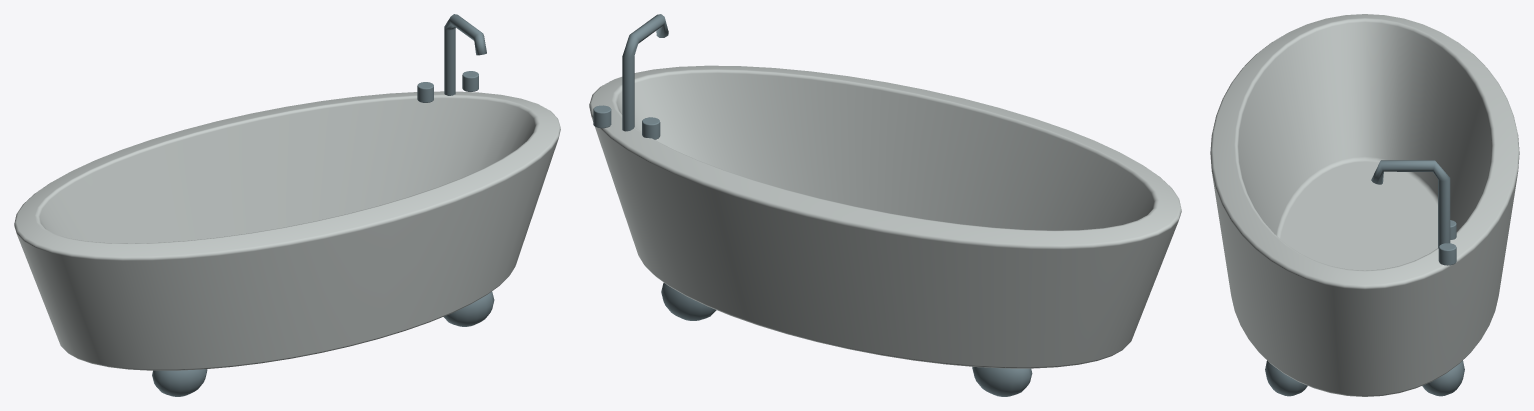
The model's file is bathtub.glb.
3 renders of one model, left to right at view 1: azimuth 30°, elevation 25°; view 2: azimuth 150°, elevation 25°; view 3: azimuth 270°, elevation 25°, orthographic. The views are drawn at different scales.
Parts seen in each view (by area): view 1: basin_shell, faucet, foot.001, foot.003; view 2: basin_shell, faucet, foot, foot.002; view 3: basin_shell, faucet, foot.002, foot.003, tap.001.
Part boxes in pixels (bbox=[...]): basin_shell: bbox=[14, 91, 560, 370]; faucet: bbox=[444, 14, 486, 95]; foot.001: bbox=[152, 369, 207, 396]; foot.003: bbox=[443, 291, 494, 326]; basin_shell: bbox=[589, 65, 1181, 368]; faucet: bbox=[622, 14, 668, 131]; foot: bbox=[972, 366, 1032, 396]; foot.002: bbox=[661, 283, 716, 320]; basin_shell: bbox=[1210, 14, 1519, 396]; faucet: bbox=[1371, 160, 1450, 248]; foot.002: bbox=[1422, 360, 1464, 396]; foot.003: bbox=[1265, 360, 1307, 396]; tap.001: bbox=[1438, 243, 1456, 265].
Bounding box in the file's own units: 1.87 × 0.8376 × 0.8973.
